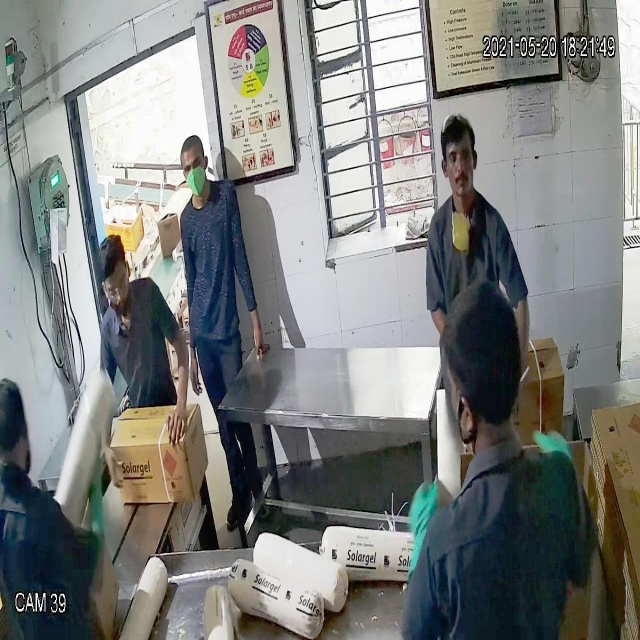Gafas: (92, 268, 134, 305)
Sin_gafas: (433, 139, 480, 172)
